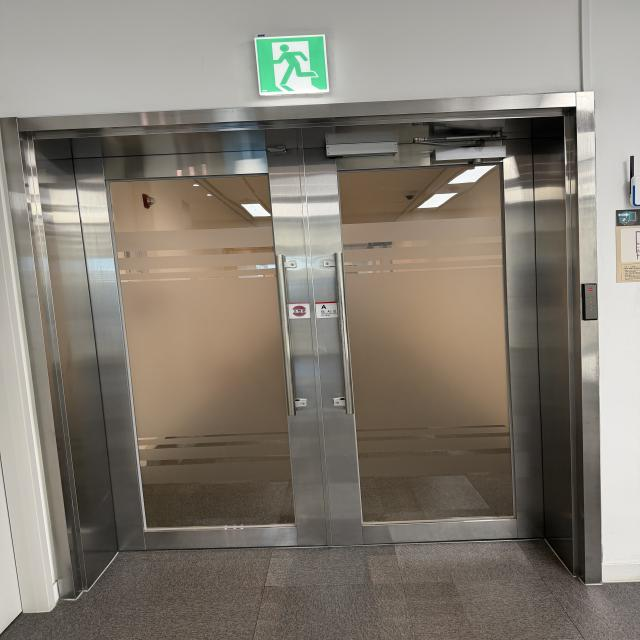rear_door: (19, 113, 570, 552)
